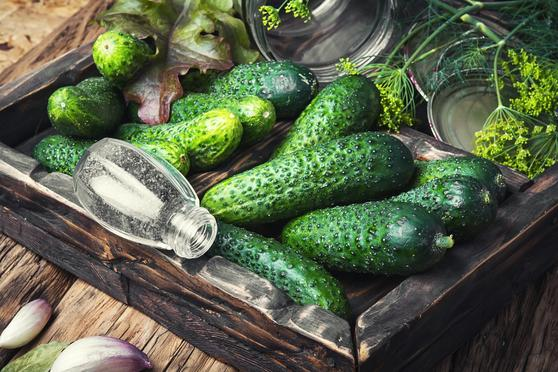cucumber: (208, 133, 418, 209), (287, 200, 451, 273), (38, 74, 127, 136)
